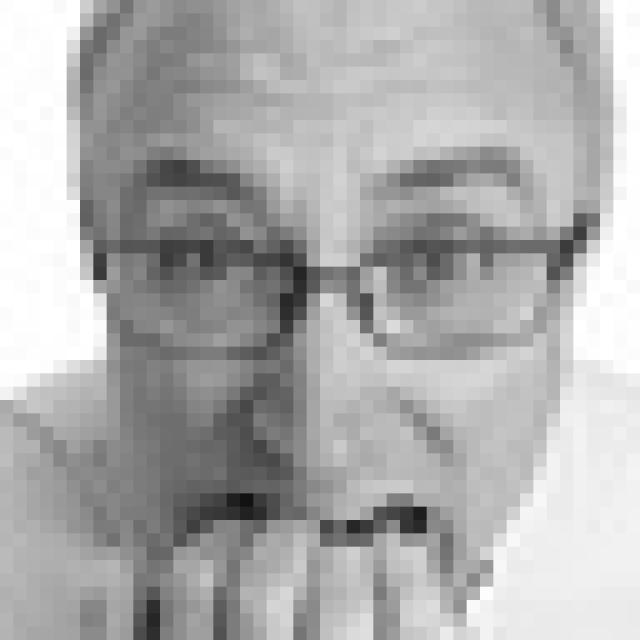fear: (119, 133, 546, 590)
